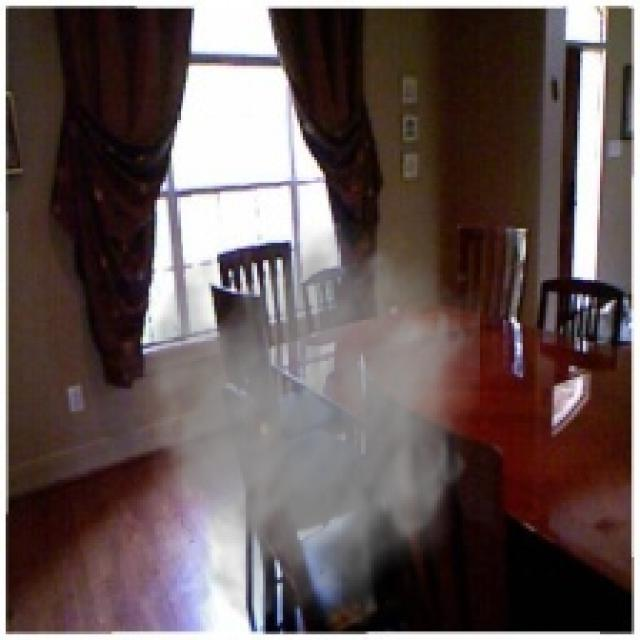smoke: (114, 217, 480, 632)
